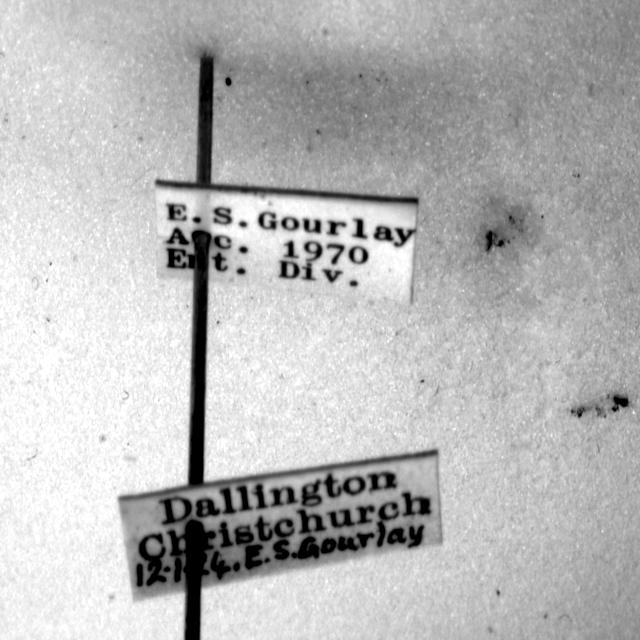mixed_label: (119, 450, 441, 600)
typed_label: (155, 182, 418, 304)
